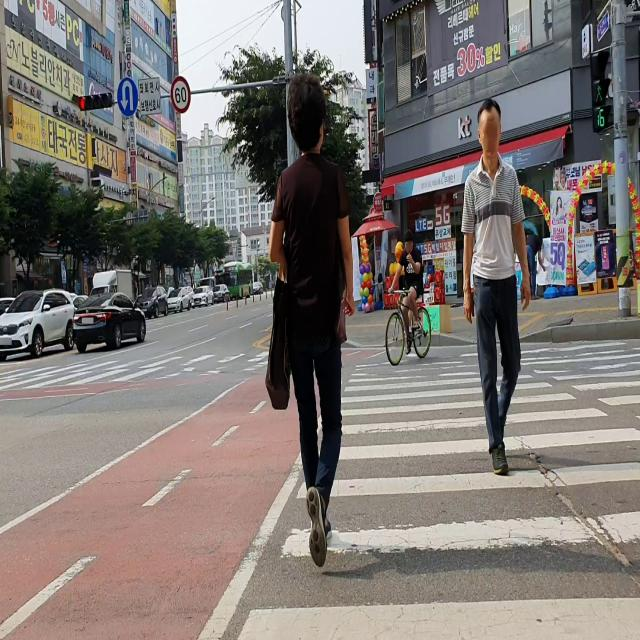초록불: (587, 48, 613, 135)
횡단보도: (238, 345, 640, 639), (0, 352, 265, 379)
